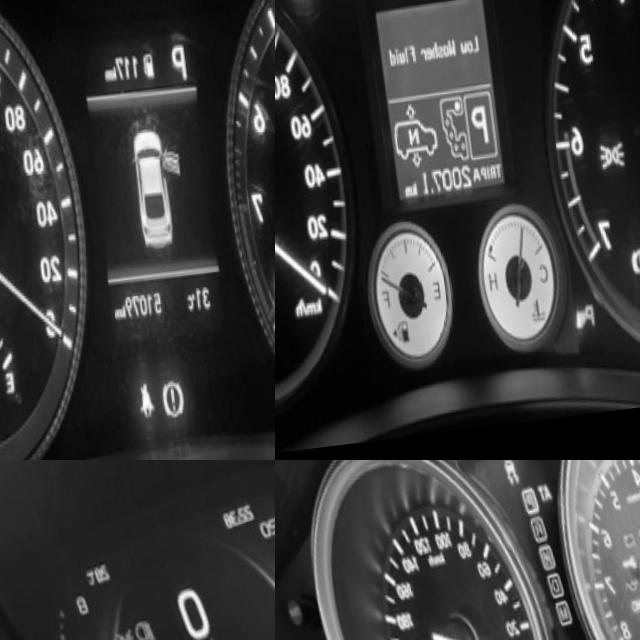Low beam: (124, 620, 154, 640)
Seat Belt: (122, 383, 145, 434)
